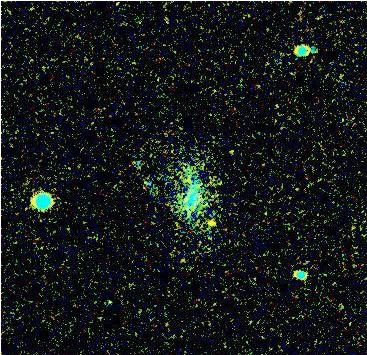star: (197, 208, 227, 238)
